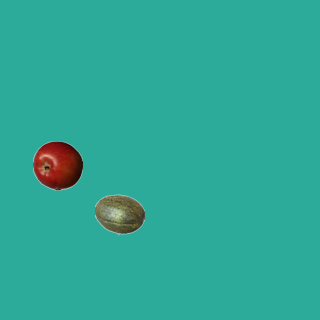Apple Braeburn: (32, 140, 82, 190)
Melon Piel de Sapo: (94, 189, 144, 239)
